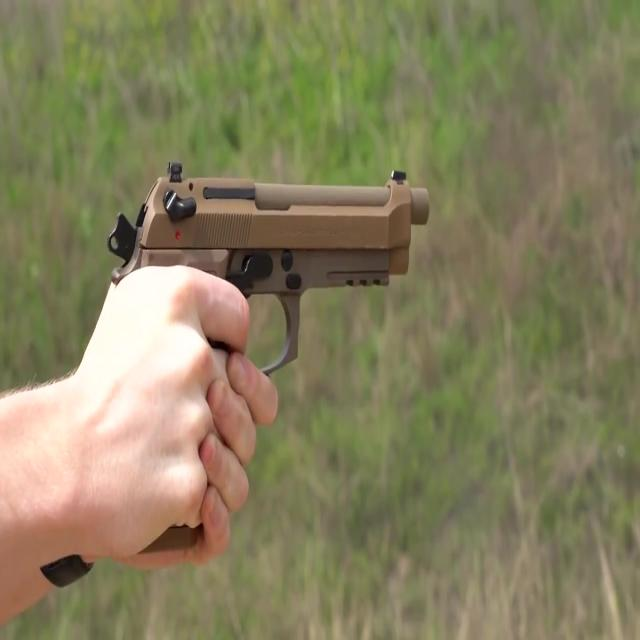Weapon: (58, 139, 470, 584)
